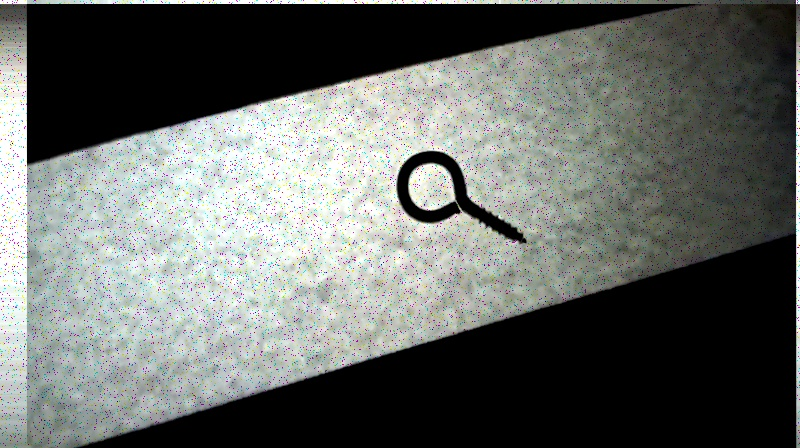O001: (392, 148, 530, 245)
